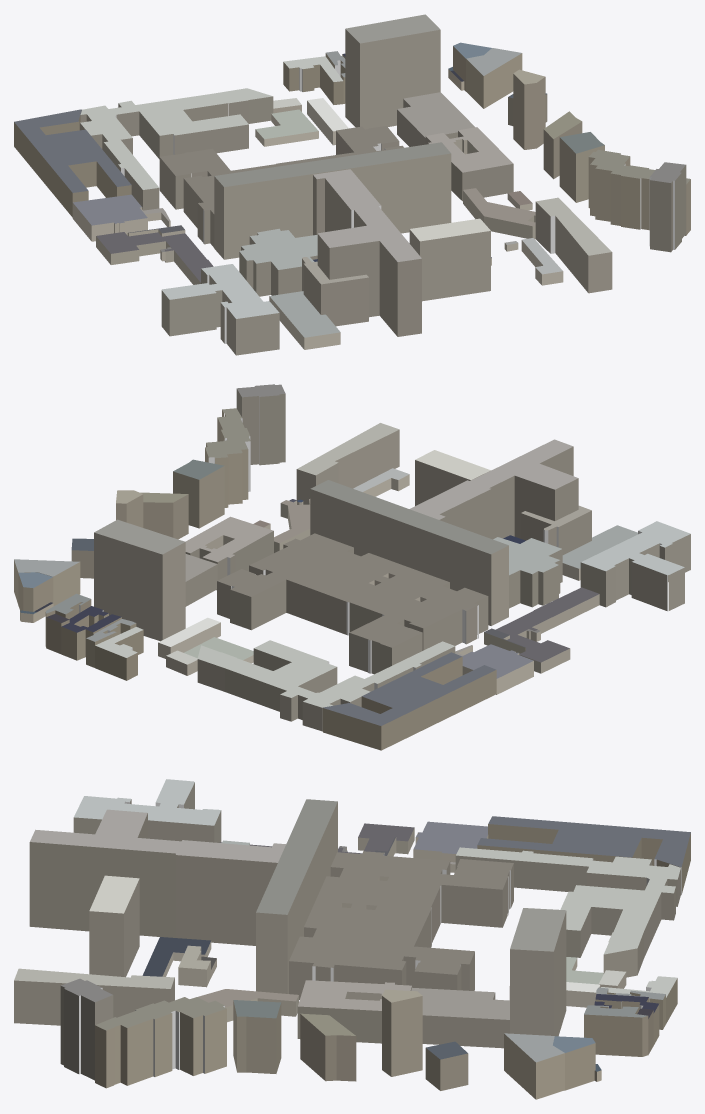
The picture shows the model from 3 angles, top to bottom: view 1: azimuth 30°, elevation 25°; view 2: azimuth 150°, elevation 25°; view 3: azimuth 270°, elevation 25°; orthographic projection. The views are drawn at different scales.
Parts seen in each view (by area): view 1: tuile; view 2: tuile; view 3: tuile.
Boxes of the visible parts, box(x1,y1,x2,y2) form: tuile: box(14, 14, 690, 355); tuile: box(14, 384, 690, 750); tuile: box(14, 779, 690, 1099).
Size of the model in its own units: 291 by 50.57 by 291.
